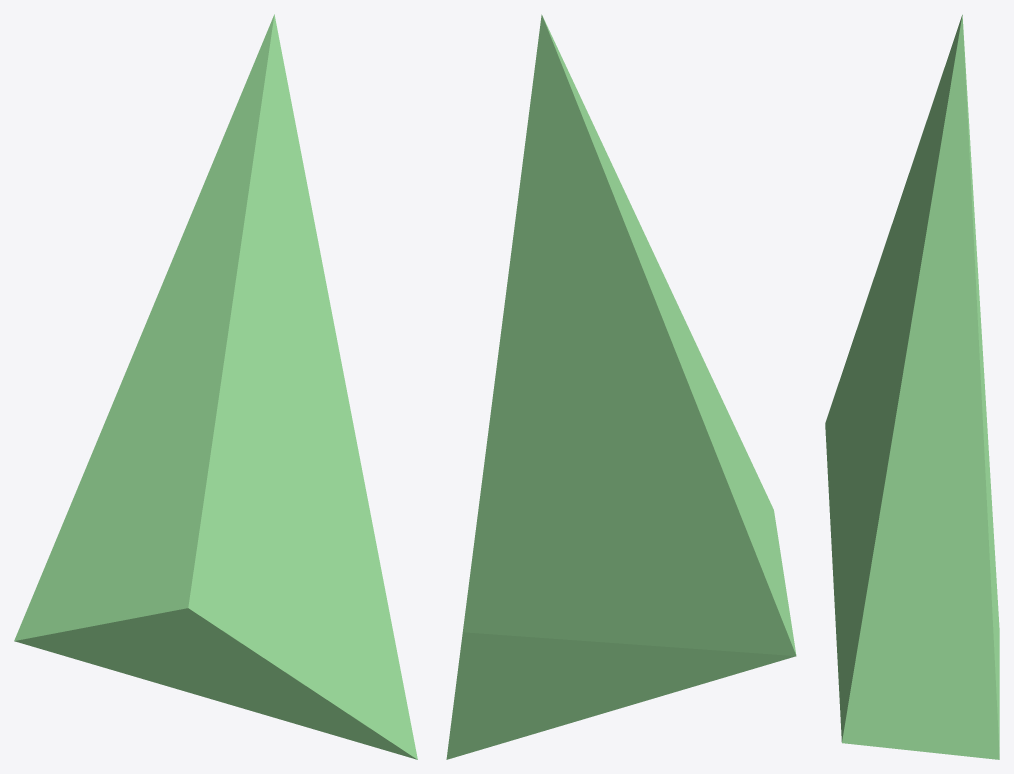
Rendered from linkhou_robot_base_coll_11.dae.
3 views of the same model, side by side, from view 1: azimuth 30°, elevation 25°; view 2: azimuth 150°, elevation 25°; view 3: azimuth 270°, elevation 25° (orthographic). The views are drawn at different scales.
Visible parts, largest first — view 1: Node_0000029808436140; view 2: Node_0000029808436140; view 3: Node_0000029808436140.
Boxes of the visible parts, <box> form: Node_0000029808436140: <box>14,14,417,759</box>; Node_0000029808436140: <box>446,14,796,759</box>; Node_0000029808436140: <box>825,14,999,759</box>.
Bounding box in the file's own units: 0.0334 × 0.0702 × 0.0156.
